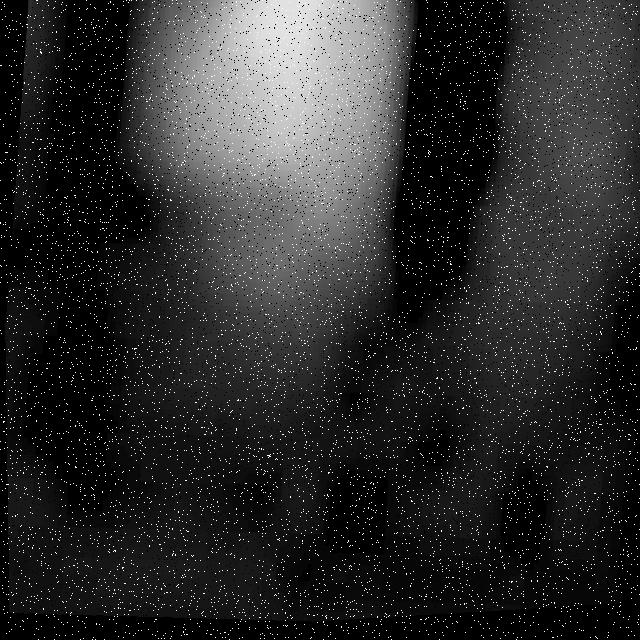person: (135, 1, 406, 360)
